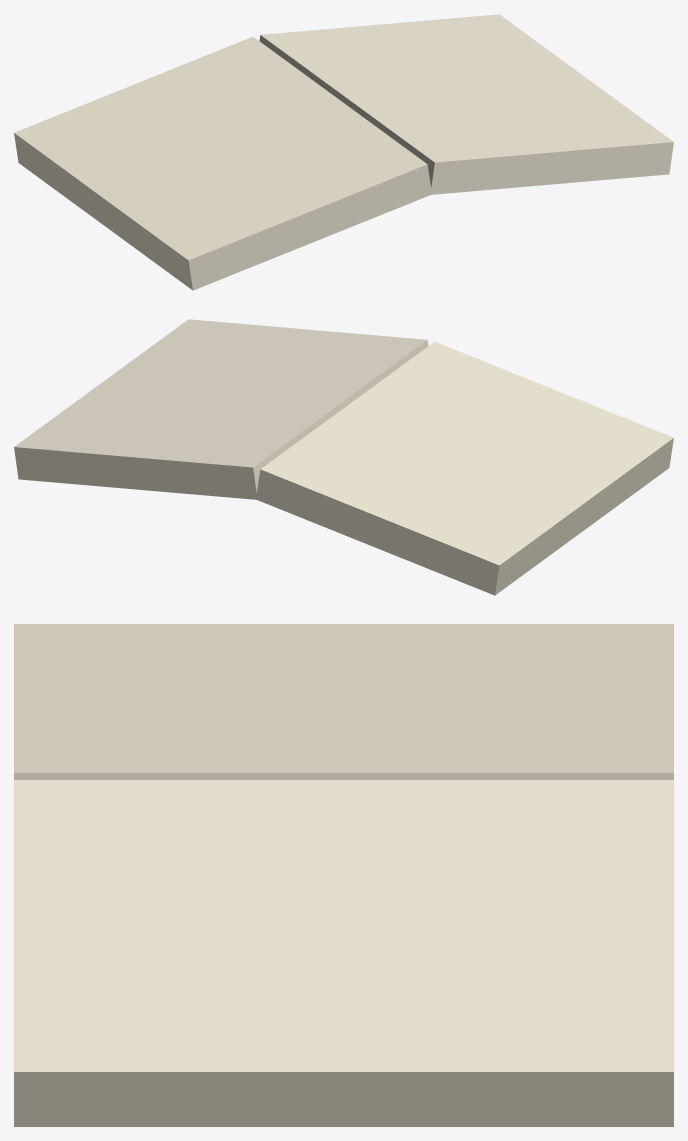
Rendered from reading-book.glb.
3 renders of one model, top to bottom at view 1: azimuth 30°, elevation 25°; view 2: azimuth 150°, elevation 25°; view 3: azimuth 270°, elevation 25°, orthographic. The views are drawn at different scales.
Visible parts, largest first — view 1: open pages; view 2: open pages; view 3: open pages.
Boxes of the visible parts, x1=… form: open pages: x1=14, y1=14, x2=673, y2=290; open pages: x1=14, y1=319, x2=673, y2=595; open pages: x1=14, y1=624, x2=673, y2=1126.
Bounding box in the file's own units: 0.5621 × 0.0764 × 0.35.
